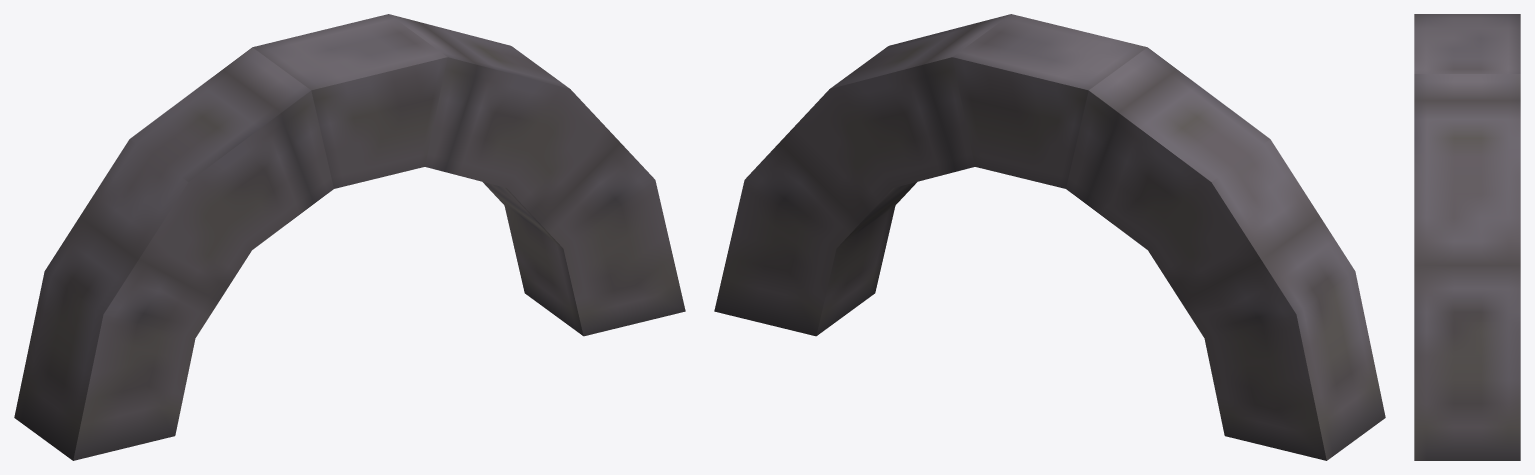
File: arch_03_purple.fbx
3 renders of one model, left to right at view 1: azimuth 30°, elevation 25°; view 2: azimuth 150°, elevation 25°; view 3: azimuth 270°, elevation 25°, orthographic. The views are drawn at different scales.
Visible parts, largest first — view 1: arch_03_purple; view 2: arch_03_purple; view 3: arch_03_purple.
Boxes of the visible parts, x1,y1,x2,y2 form: arch_03_purple: [14, 14, 685, 460]; arch_03_purple: [714, 14, 1385, 460]; arch_03_purple: [1414, 14, 1520, 460].
Bounding box in the file's own units: 24 × 11.7 × 4.
